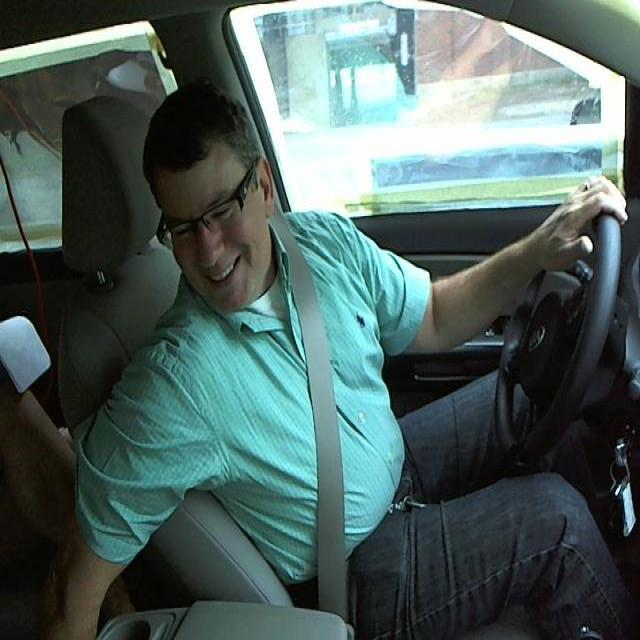seatbelt: (285, 262, 357, 614)
